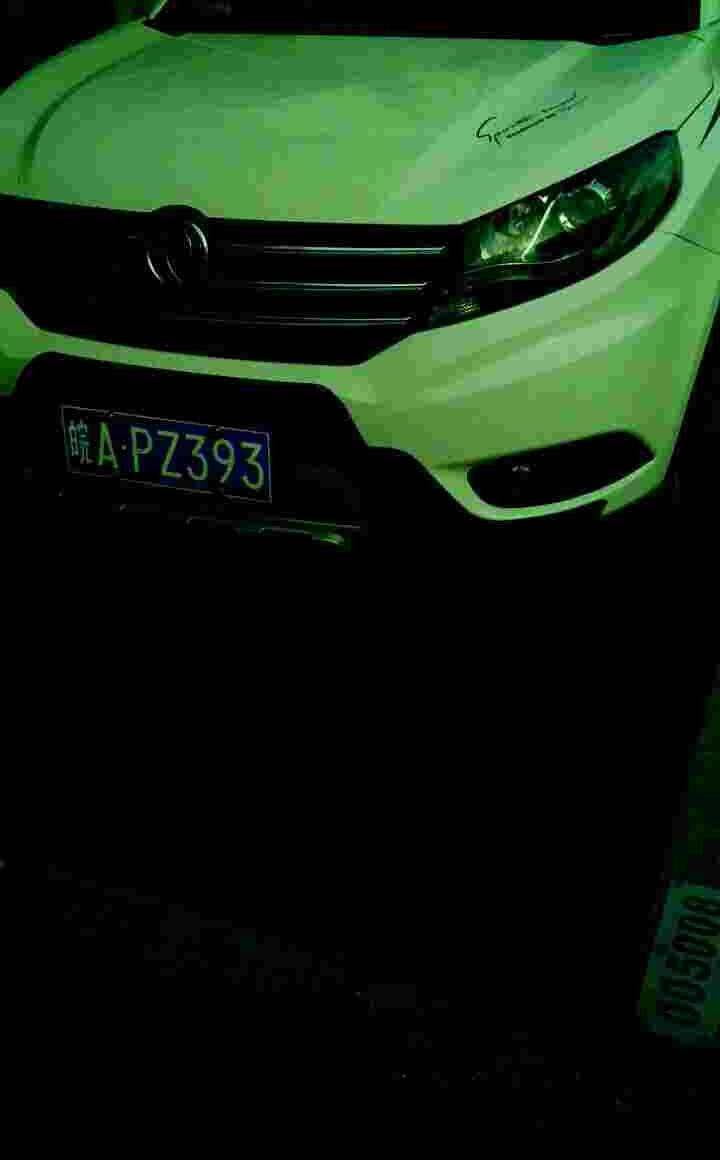license_plate: (60, 409, 279, 495)
